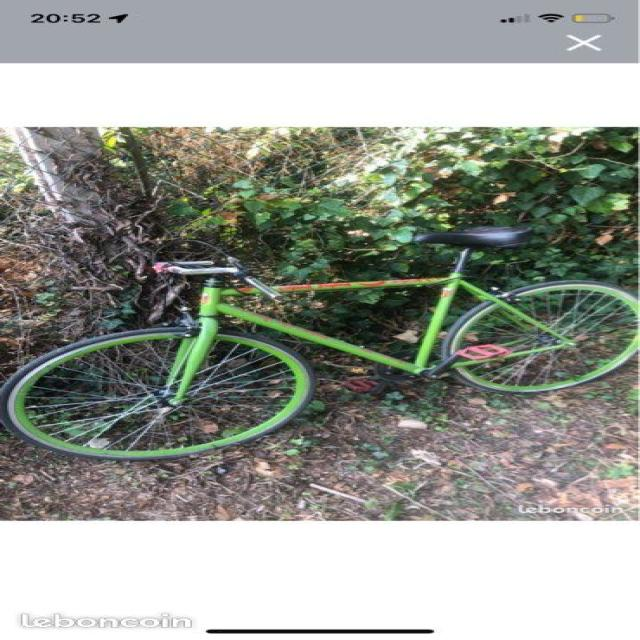Bike: (4, 227, 640, 464)
